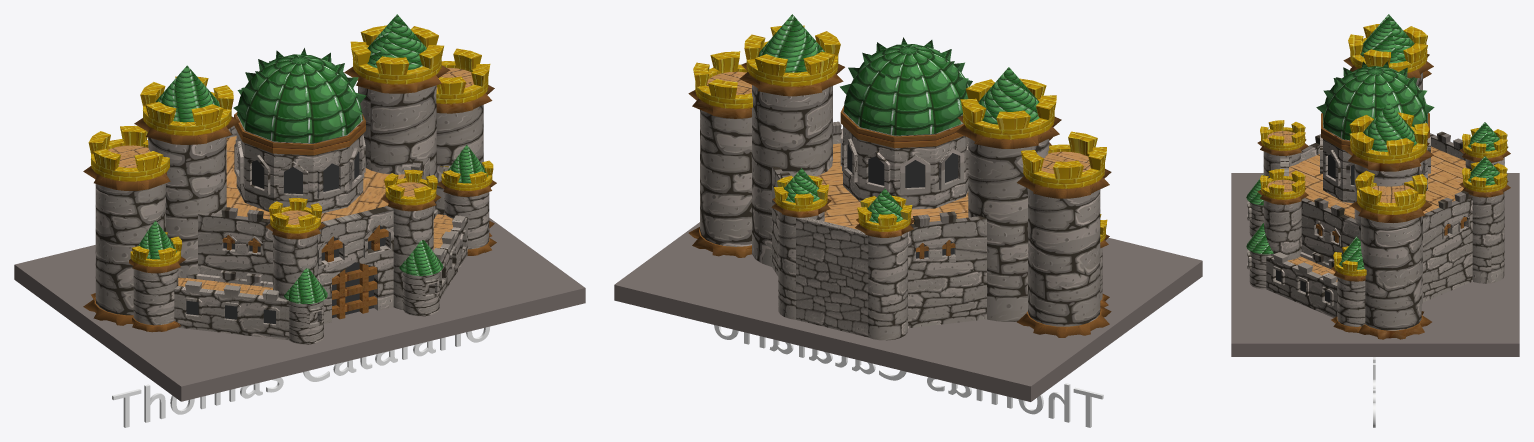
3 views of the same model, side by side, from view 1: azimuth 30°, elevation 25°; view 2: azimuth 150°, elevation 25°; view 3: azimuth 270°, elevation 25° (orthographic). The views are drawn at different scales.
Parts seen in each view (by area): view 1: pPlane1, pCylinder13 (×2), pSphere1, pCylinder21, pCylinder24, pCylinder16 (×2), pPlane4, pPlane2, pPlane10, typeMesh1, pCylinder26, pCylinder32 (+30 smaller); view 2: pPlane1, pCylinder13 (×2), pSphere1, pPlane10 (×2), pCylinder24, pCube12, pCylinder32, pCylinder21, pCylinder16 (×2), pCylinder39, pCylinder26, typeMesh1 (+17 smaller); view 3: pPlane1, pPlane10 (×4), pCylinder32, pSphere1, pPlane15, pCylinder36, pPlane14, pCylinder26, pCylinder34, pCylinder16, pCylinder4, pCylinder21 (+27 smaller).
Part boxes in pixels (x1,y1,x2,y2): pPlane1: (14, 218, 585, 401); pCylinder13 (×2): (95, 136, 226, 315); pSphere1: (233, 48, 366, 143); pCylinder21: (234, 114, 365, 213); pCylinder24: (358, 85, 436, 212); pCylinder16 (×2): (88, 76, 233, 181); pPlane4: (174, 280, 289, 340); pPlane2: (318, 206, 393, 323); pPlane10: (198, 207, 272, 282); typeMesh1: (112, 326, 490, 427); pCylinder26: (350, 25, 443, 84); pCylinder32: (436, 105, 483, 214); pPlane1: (614, 222, 1202, 401); pCylinder13 (×2): (968, 138, 1100, 326); pSphere1: (840, 37, 972, 135); pPlane10 (×2): (772, 166, 986, 328); pCylinder24: (752, 85, 832, 266); pCube12: (796, 217, 868, 337); pCylinder32: (700, 110, 751, 246); pCylinder21: (840, 111, 968, 209); pCylinder16 (×2): (960, 78, 1106, 188); pCylinder39: (863, 232, 907, 340); pCylinder26: (744, 25, 840, 86); typeMesh1: (714, 325, 1103, 427); pPlane1: (1231, 173, 1519, 356); pPlane10 (×4): (1289, 131, 1497, 302); pCylinder32: (1361, 216, 1421, 330); pSphere1: (1316, 61, 1434, 140); pPlane15: (1289, 146, 1466, 218); pCylinder36: (1468, 192, 1504, 283); pPlane14: (1266, 252, 1337, 317); pCylinder26: (1349, 112, 1429, 163); pCylinder34: (1355, 170, 1427, 214); pCylinder16: (1348, 24, 1427, 72); pCylinder4: (1263, 199, 1301, 260); pCylinder21: (1320, 113, 1430, 203).
Bounding box in the file's own units: 70 × 56.16 × 50.
15 materials, 11 textured.
